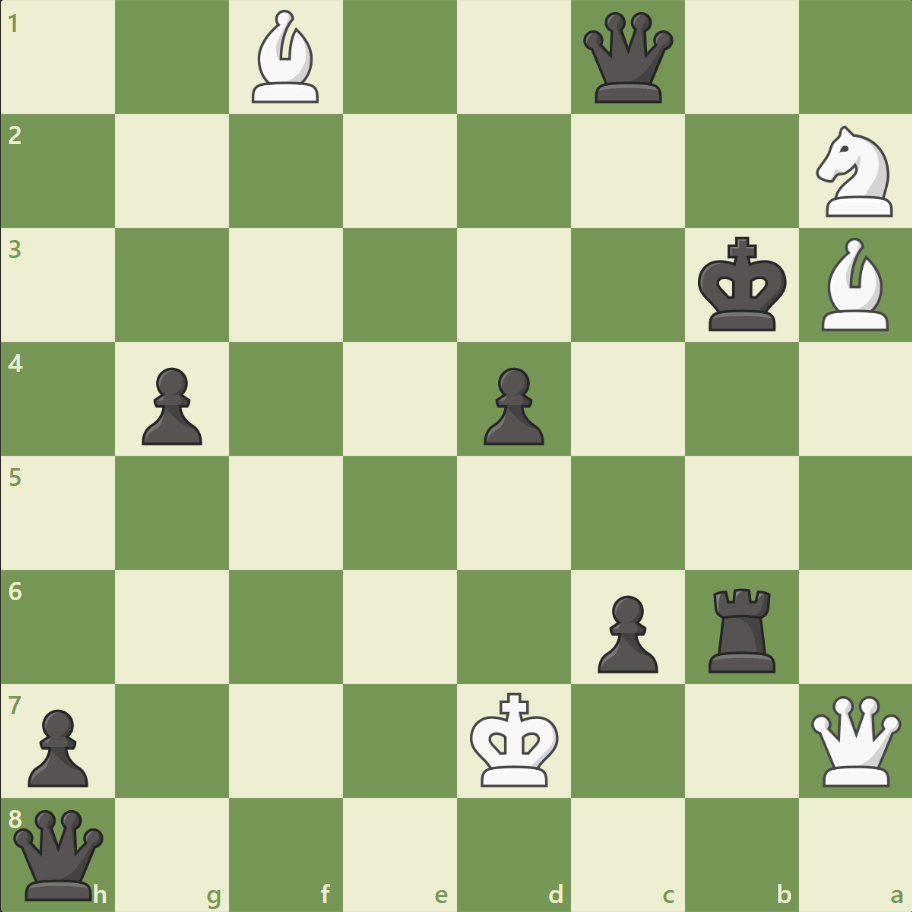B: (812, 233, 896, 336), (244, 6, 328, 109)
K: (465, 685, 565, 793)
N: (806, 121, 903, 223)
Q: (805, 690, 904, 789)
k: (692, 231, 792, 339)
p: (20, 700, 95, 791), (474, 359, 549, 450), (133, 359, 208, 450), (588, 586, 662, 677)
q: (10, 804, 109, 903), (578, 9, 677, 108)
r: (700, 579, 783, 676)
